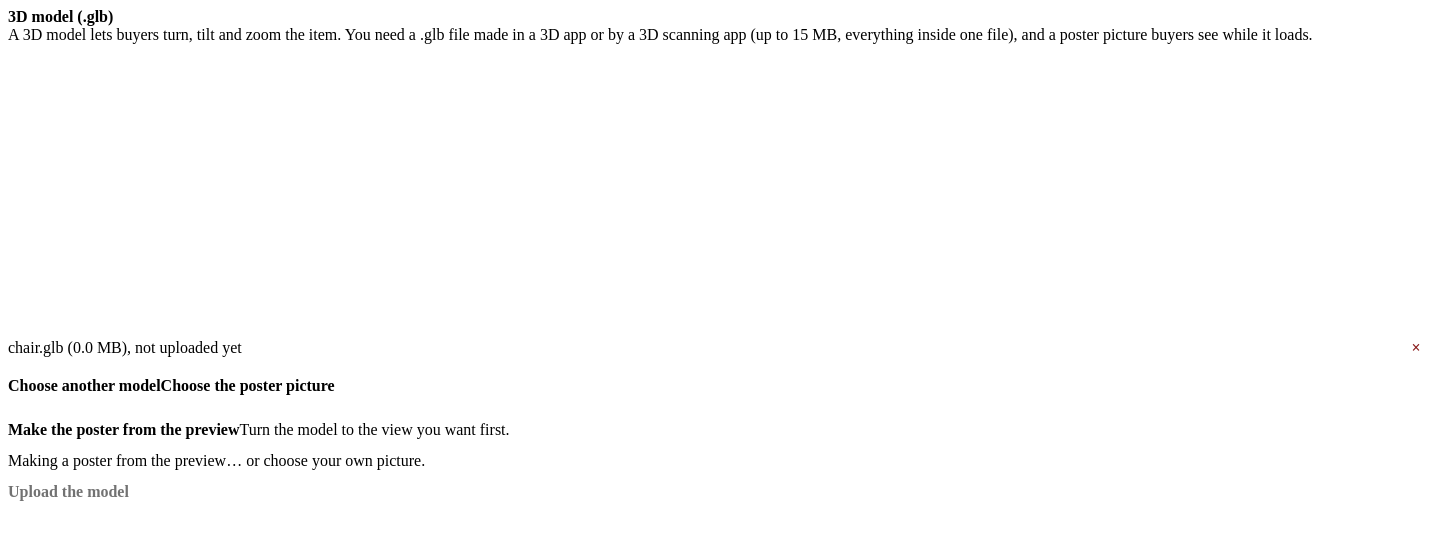
Scenario: poster taken from the model › says so, and keeps the choose-a-picture way, when the picture cannot be taken
Earlier steps of the test are not shown.
Click the button "Make the poster from the preview": (124, 430) [8,408,240,452]
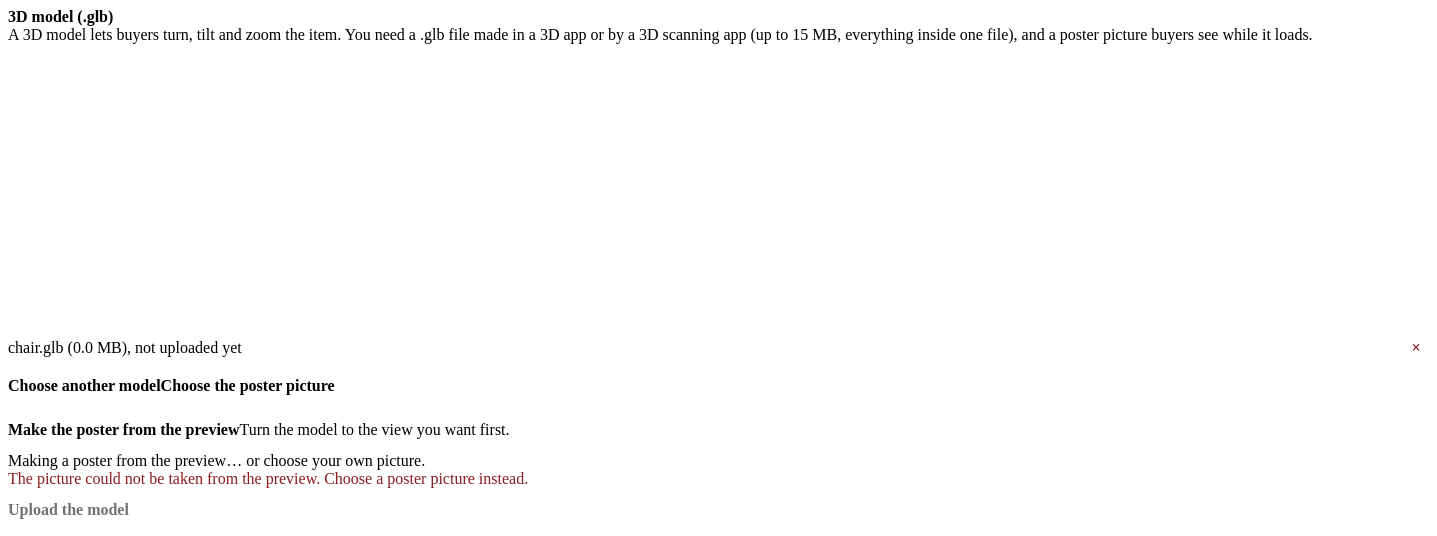
expect the file field labelled "poster picture" is shown: met, box [161,377,335,394]
expect the 2nd message shows "Choose a poster picture instead": met, box [8,470,528,487]
